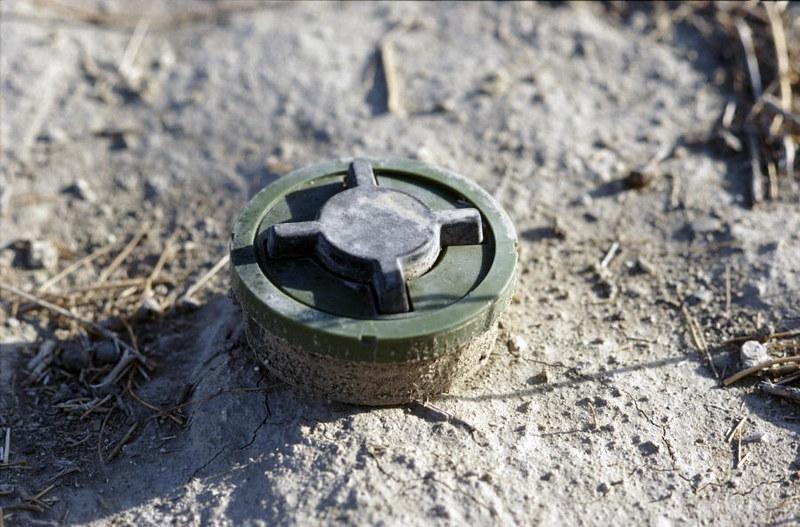pmn: (225, 152, 523, 412)
